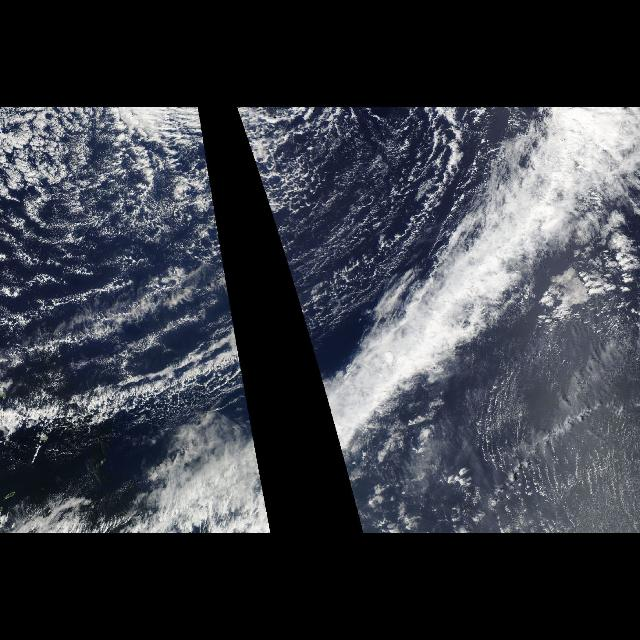Fish: (333, 108, 639, 440), (8, 204, 215, 452)
Gravel: (0, 109, 248, 395), (237, 107, 481, 395)
Sugar: (494, 334, 634, 526)
